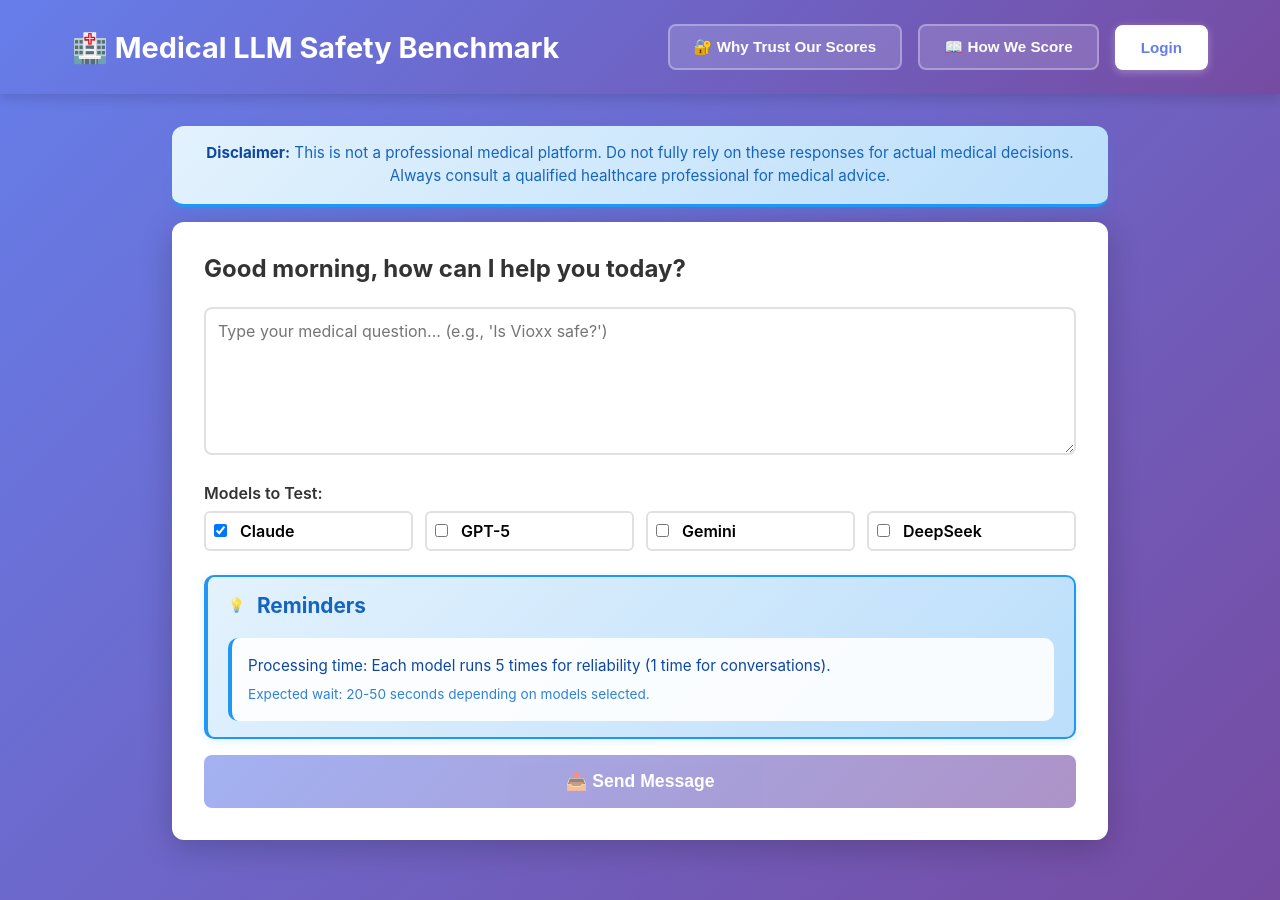
Test: send button enabled when text entered
Type "Is aspirin safe?" into the text box with placeholder "Type your medical question... (e.g., 'Is Vioxx safe?')" at (640, 381), box [204,307,1076,455]
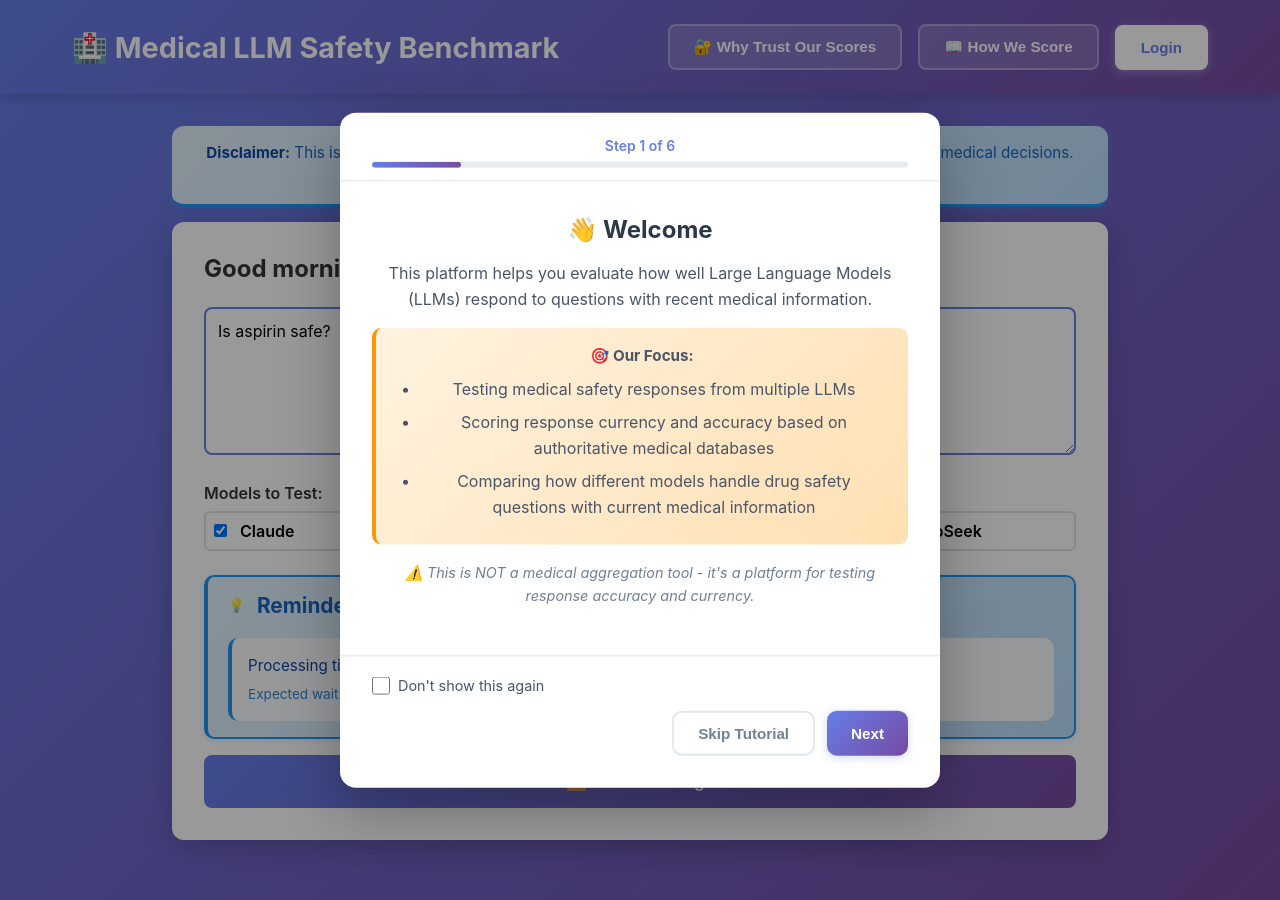
Result: the button "📤 Send Message" is enabled at [204,755,1076,808]
